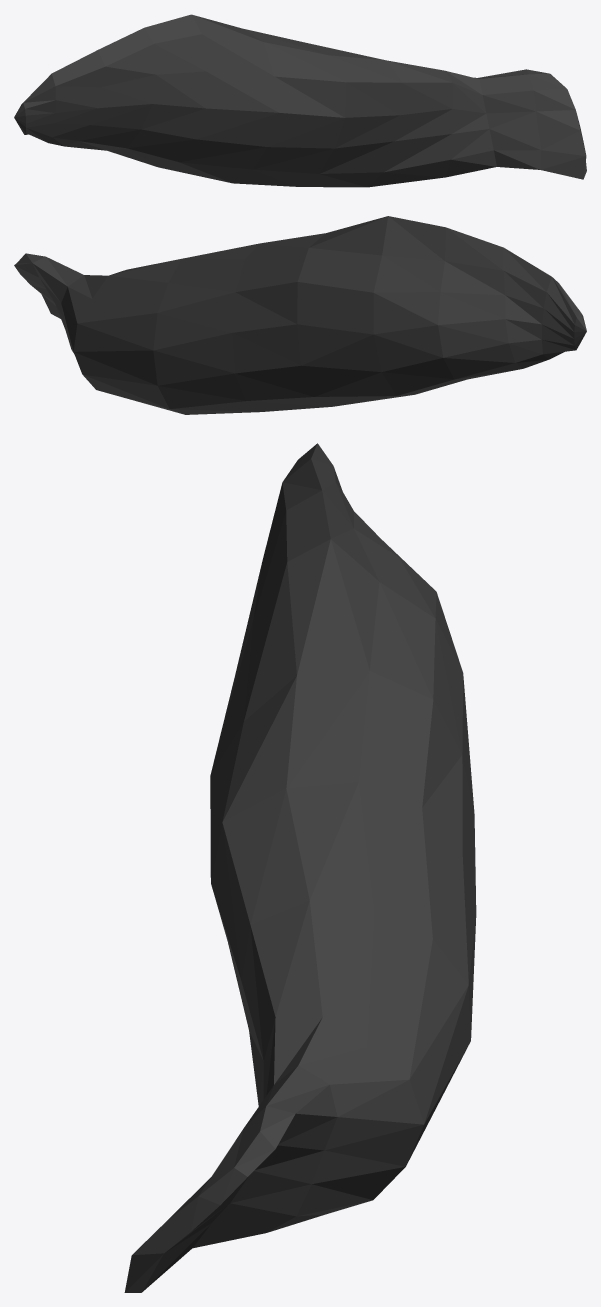
The model's file is AdductorLongus.glb.
3 renders of one model, top to bottom at view 1: azimuth 30°, elevation 25°; view 2: azimuth 150°, elevation 25°; view 3: azimuth 270°, elevation 25°, orthographic. The views are drawn at different scales.
Parts seen in each view (by area): view 1: AdductorLongus; view 2: AdductorLongus; view 3: AdductorLongus.
Part boxes in pixels (box(x1,y1,x2,y2)): AdductorLongus: box(14, 14, 586, 187); AdductorLongus: box(14, 216, 586, 414); AdductorLongus: box(124, 443, 476, 1292).
Bounding box in the file's own units: 2.53 × 0.9902 × 0.7219.
1 material, 1 textured.
